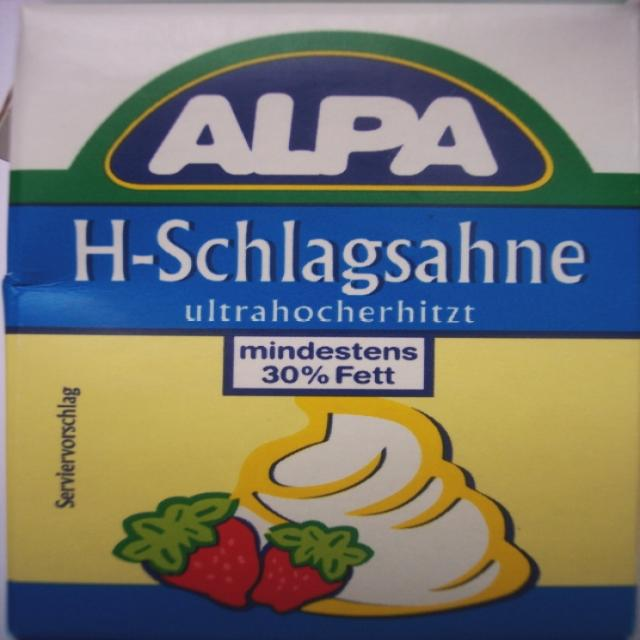cream: (4, 3, 639, 640)
